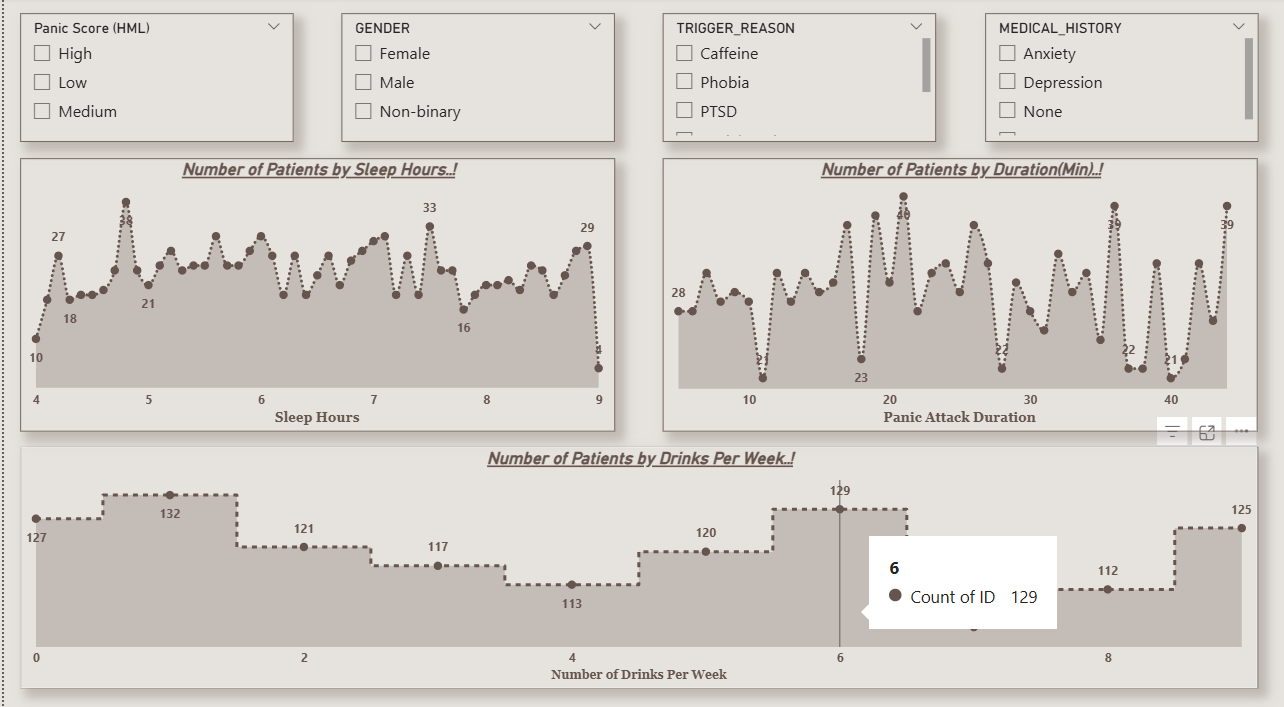

What the dashboard file says about the page in this screenshot:
{"tool":"powerbi","page":{"name":"Other requirements","canvas":[1280,720],"ordinal":2},"visuals":[{"type":"slicer","fields":{"Values":["PANIC_ATTACK_DATA.Panic Score (HML)"]},"box":[16,16,272,128],"z":0},{"type":"slicer","fields":{"Values":["PANIC_ATTACK_DATA.GENDER"]},"box":[336,16,272,128],"z":1000},{"type":"slicer","fields":{"Values":["PANIC_ATTACK_DATA.TRIGGER_REASON"]},"box":[656,16,272,128],"z":2000},{"type":"slicer","fields":{"Values":["PANIC_ATTACK_DATA.MEDICAL_HISTORY"]},"box":[976,16,272,128],"z":3000},{"type":"areaChart","title":"Number of Patients by Drinks Per Week..!","fields":{"Category":["PANIC_ATTACK_DATA.ALCOHOL_CONSUMPTION"],"Y":["CountNonNull(PANIC_ATTACK_DATA.ID)"]},"box":[16,448,1232,240],"z":4000},{"type":"areaChart","title":"Number of Patients by Sleep Hours..! ","fields":{"Y":["CountNonNull(PANIC_ATTACK_DATA.ID)"],"Category":["PANIC_ATTACK_DATA.SLEEP_HOURS"]},"box":[16,160,592,272],"z":5000},{"type":"areaChart","title":"Number of Patients by Duration(Min)..!","fields":{"Y":["CountNonNull(PANIC_ATTACK_DATA.ID)"],"Category":["PANIC_ATTACK_DATA.DURATION_MINUTES"]},"box":[656,160,592,272],"z":6000}]}

Visuals, with their boxes in screenshot pixels (x1, y1, x2, y2), scaled from the page's 1280x720 canvas onto the 1284x707 screenshot:
slicer - PANIC_ATTACK_DATA.Panic Score (HML): (left=16, top=16, right=289, bottom=141)
slicer - PANIC_ATTACK_DATA.GENDER: (left=337, top=16, right=610, bottom=141)
slicer - PANIC_ATTACK_DATA.TRIGGER_REASON: (left=658, top=16, right=931, bottom=141)
slicer - PANIC_ATTACK_DATA.MEDICAL_HISTORY: (left=979, top=16, right=1252, bottom=141)
"Number of Patients by Drinks Per Week..!" areaChart: (left=16, top=440, right=1252, bottom=676)
"Number of Patients by Sleep Hours..! " areaChart: (left=16, top=157, right=610, bottom=424)
"Number of Patients by Duration(Min)..!" areaChart: (left=658, top=157, right=1252, bottom=424)
